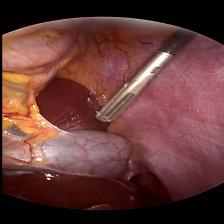Grasper: (84, 47, 179, 126)
